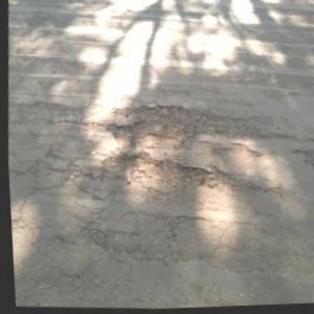Hueco: (103, 100, 221, 156), (97, 149, 230, 198)
